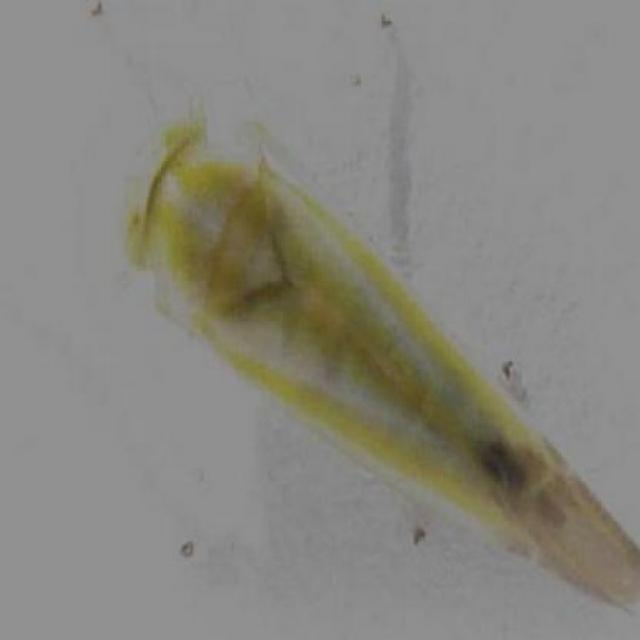green-leafhopper: (115, 105, 634, 615)
